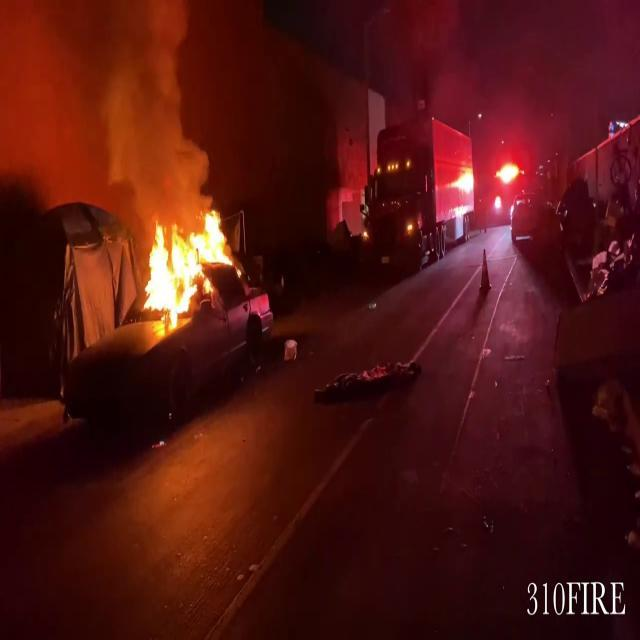Fire: (137, 205, 236, 329)
Smoke: (1, 0, 218, 208)
